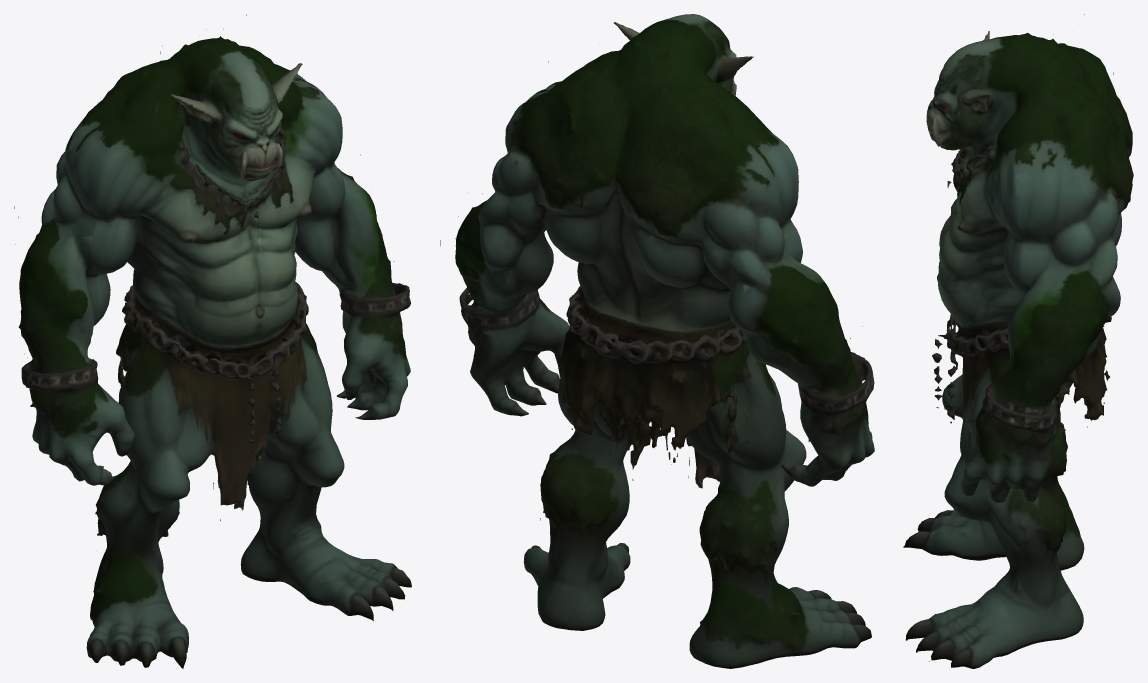
The model's file is cave-troll.glb.
3 renders of one model, left to right at view 1: azimuth 30°, elevation 25°; view 2: azimuth 150°, elevation 25°; view 3: azimuth 270°, elevation 25°, orthographic. The views are drawn at different scales.
Parts seen in each view (by area): view 1: Legionary; view 2: Legionary; view 3: Legionary.
Boxes of the visible parts, bbox=[...] form: Legionary: bbox=[14, 14, 411, 668]; Legionary: bbox=[440, 14, 874, 668]; Legionary: bbox=[903, 14, 1133, 668].
Size of the model in its own units: 0.6801 by 0.9887 by 0.3597.
Materials: 1 (1 with a texture image).
